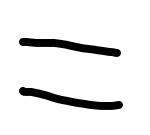eqv: (19, 36, 124, 111)
